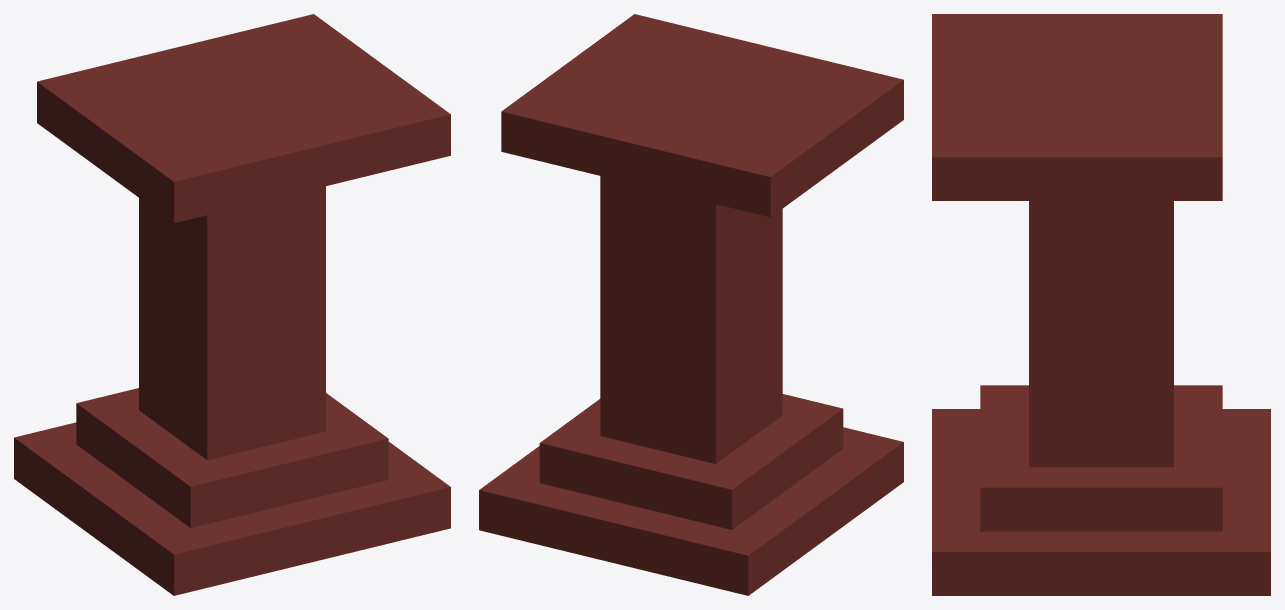
Rendered from altar_b_b.obj.
3 renders of one model, left to right at view 1: azimuth 30°, elevation 25°; view 2: azimuth 150°, elevation 25°; view 3: azimuth 270°, elevation 25°, orthographic. The views are drawn at different scales.
Size of the model in its own units: 0.7 by 1 by 0.7.
Materials: 1 (1 with a texture image).
